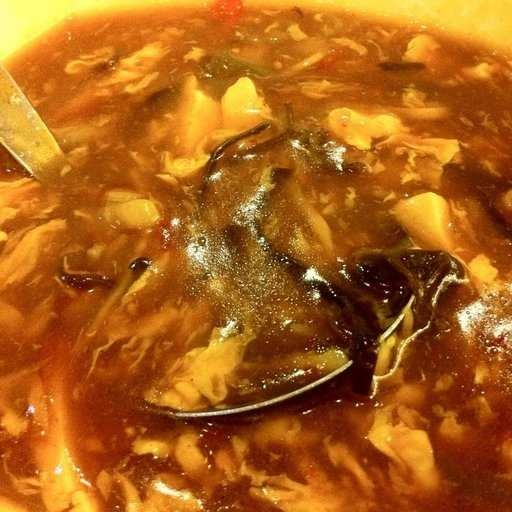soup: (1, 5, 506, 506)
